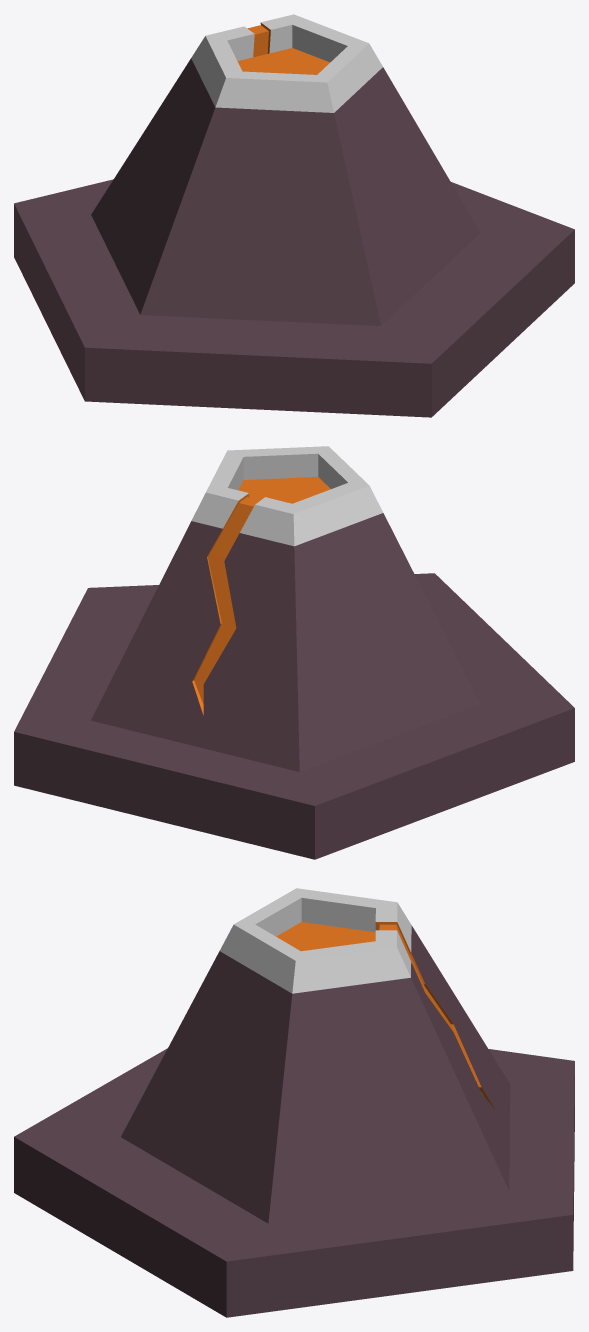
Rendered from Planet_Vulcano_Pentagon (1).fbx.
The picture shows the model from 3 angles, top to bottom: view 1: azimuth 30°, elevation 25°; view 2: azimuth 150°, elevation 25°; view 3: azimuth 270°, elevation 25°; orthographic projection. The views are drawn at different scales.
Parts seen in each view (by area): view 1: PentVulc; view 2: PentVulc; view 3: PentVulc.
Part boxes in pixels (x1,y1,x2,y2): PentVulc: (14,14,574,417); PentVulc: (14,446,574,859); PentVulc: (14,888,574,1317).
Bounding box in the file's own units: 5.08 × 2.56 × 4.84.
